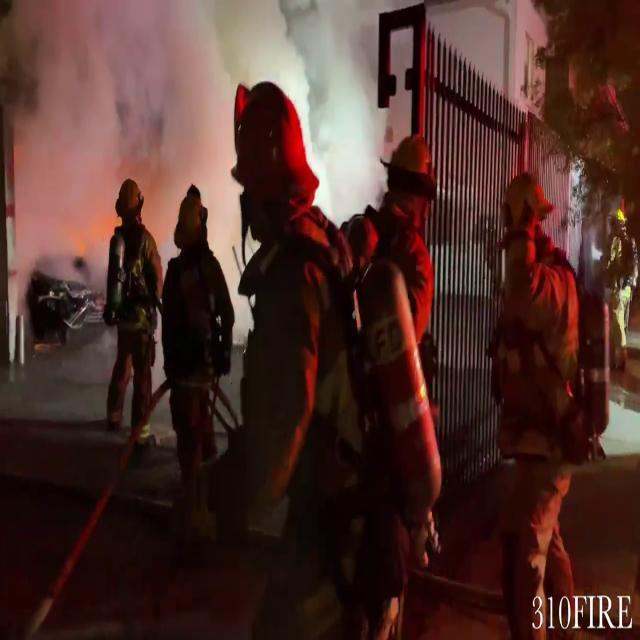Smoke: (0, 0, 356, 258)
